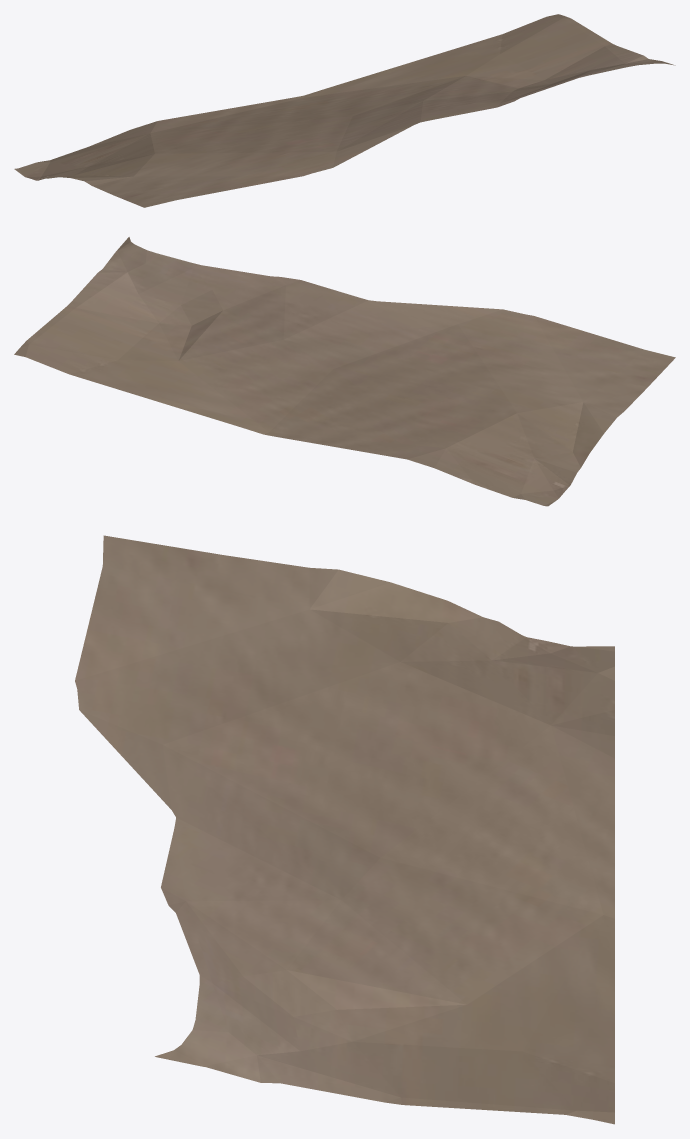
The picture shows the model from 3 angles, top to bottom: view 1: azimuth 30°, elevation 25°; view 2: azimuth 150°, elevation 25°; view 3: azimuth 270°, elevation 25°; orthographic projection. The views are drawn at different scales.
Size of the model in its own units: 2.09 by 0.2089 by 0.9148.
1 material, 1 textured.
